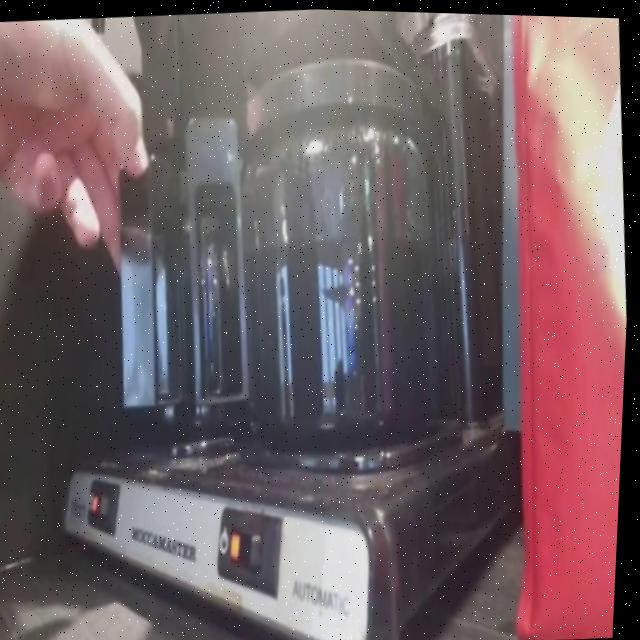coffee: (233, 167, 450, 437), (145, 232, 255, 437)
